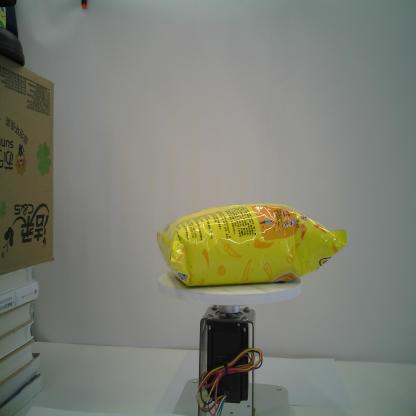Puffed Food: (156, 199, 346, 287)
